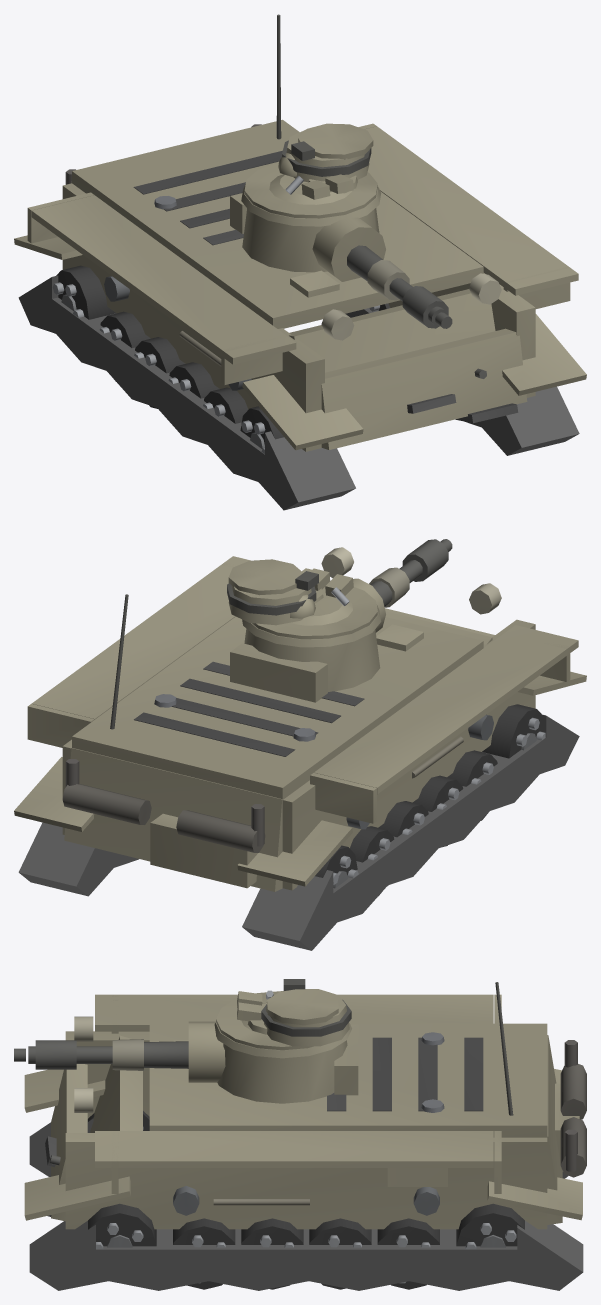
File: hago.glb
3 views of the same model, one above another, from view 1: azimuth 30°, elevation 25°; view 2: azimuth 150°, elevation 25°; view 3: azimuth 270°, elevation 25° (orthographic).
Parts seen in each view (by area): view 1: hullSide, tracks, hullTop, lowerPlate, turretRoof, glacis, turretFront, barrel, mantlet, wheel5, turretSide, wheel1 (+5 smaller); view 2: hullSide, hullTop, tracks, hullRear, turretRoof, turretRear, turretFront, barrel, wheel4, glacis, turretSide, wheel3 (+4 smaller); view 3: hullSide, tracks, hullTop, turretRoof, hullRear, turretFront, barrel, glacis, wheel11, wheel10, lowerPlate, mantlet (+6 smaller).
Part boxes in pixels (bbox=[...]): hullSide: bbox=[27, 123, 578, 451]; tracks: bbox=[14, 235, 586, 510]; hullTop: bbox=[72, 119, 483, 328]; lowerPlate: bbox=[321, 328, 527, 449]; turretRoof: bbox=[244, 123, 377, 218]; glacis: bbox=[288, 270, 518, 423]; turretFront: bbox=[242, 208, 379, 272]; barrel: bbox=[347, 245, 452, 328]; mantlet: bbox=[312, 217, 385, 281]; wheel5: bbox=[52, 265, 115, 319]; turretSide: bbox=[241, 183, 381, 226]; wheel1: bbox=[134, 337, 185, 408]; hullSide: bbox=[27, 547, 578, 890]; hullTop: bbox=[72, 616, 483, 798]; tracks: bbox=[14, 671, 586, 950]; hullRear: bbox=[62, 594, 284, 891]; turretRoof: bbox=[227, 559, 377, 639]; turretRear: bbox=[230, 643, 327, 702]; turretFront: bbox=[244, 629, 380, 691]; barrel: bbox=[369, 539, 452, 607]; wheel4: bbox=[482, 704, 545, 758]; glacis: bbox=[376, 611, 492, 651]; turretSide: bbox=[242, 604, 381, 647]; wheel3: bbox=[447, 750, 497, 820]; hullSide: bbox=[65, 994, 547, 1229]; tracks: bbox=[24, 1069, 583, 1290]; hullTop: bbox=[149, 1023, 547, 1137]; turretRoof: bbox=[216, 979, 351, 1050]; hullRear: bbox=[495, 982, 586, 1224]; turretFront: bbox=[217, 1040, 347, 1103]; barrel: bbox=[14, 1039, 188, 1070]; glacis: bbox=[45, 1035, 188, 1216]; wheel11: bbox=[456, 1203, 524, 1249]; wheel10: bbox=[88, 1203, 156, 1249]; lowerPlate: bbox=[51, 1064, 87, 1221]; mantlet: bbox=[188, 1021, 225, 1082].
Bounding box in the file's own units: 3.28 × 2.57 × 4.76.
